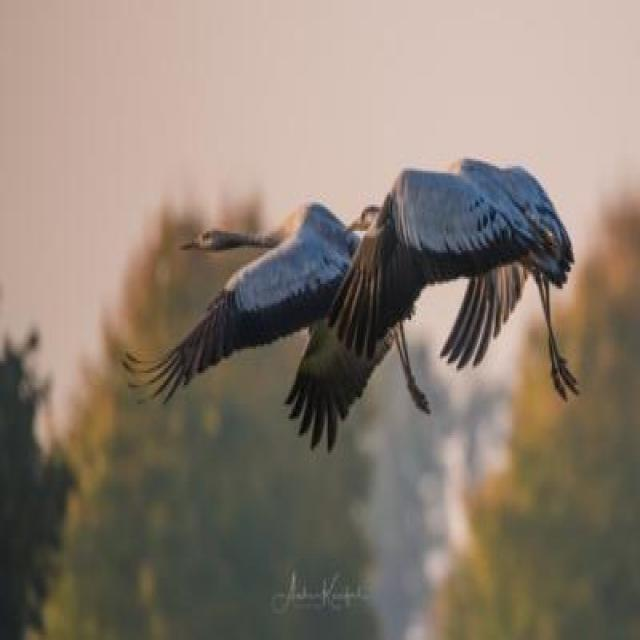birds: (111, 191, 446, 472), (318, 141, 593, 426)
